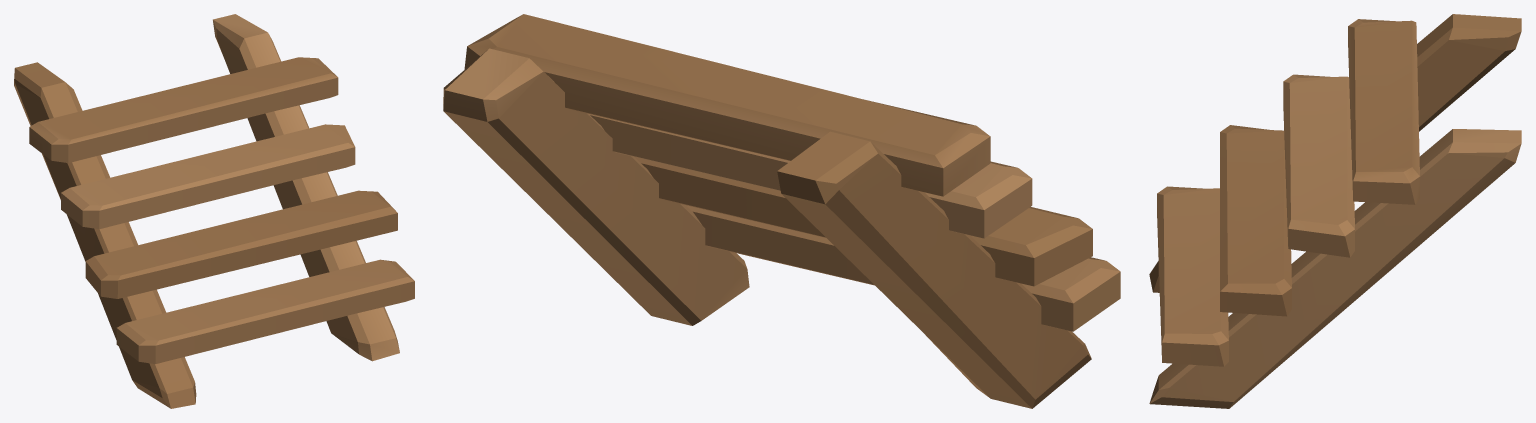
File: Scaffold_Part_Ladder.fbx
3 views of the same model, side by side, from view 1: azimuth 30°, elevation 25°; view 2: azimuth 150°, elevation 25°; view 3: azimuth 270°, elevation 25° (orthographic). The views are drawn at different scales.
Visible parts, largest first — view 1: Scaffold_Part_Ladder; view 2: Scaffold_Part_Ladder; view 3: Scaffold_Part_Ladder.
Boxes of the visible parts, left/top/right/bottom form: Scaffold_Part_Ladder: left=14, top=14, right=414, bottom=408; Scaffold_Part_Ladder: left=443, top=14, right=1120, bottom=408; Scaffold_Part_Ladder: left=1149, top=14, right=1521, bottom=408.
Bounding box in the file's own units: 179 × 131 × 166.
